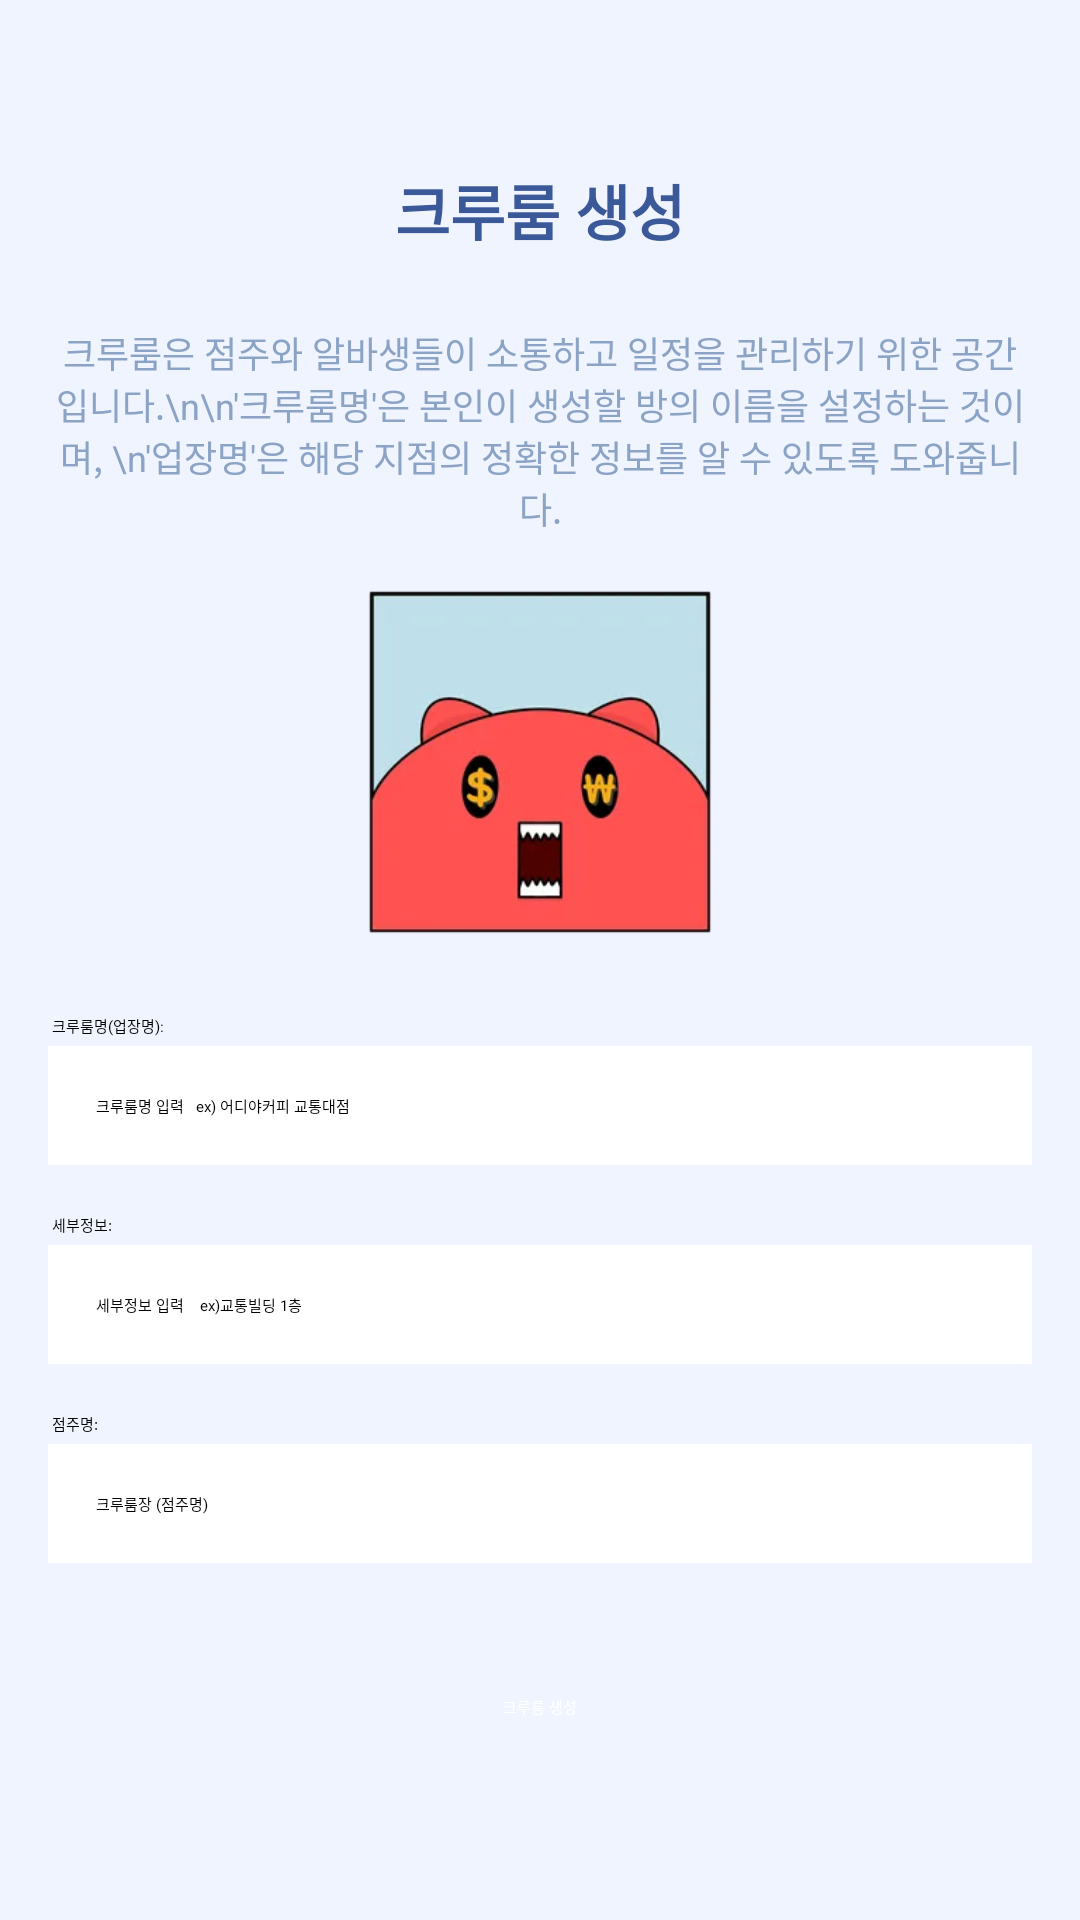

Where to tap for icons on this 1080x1920 app screen, as (x=x, y=y):
크루룸 생성 이미지: (x=540, y=762)
